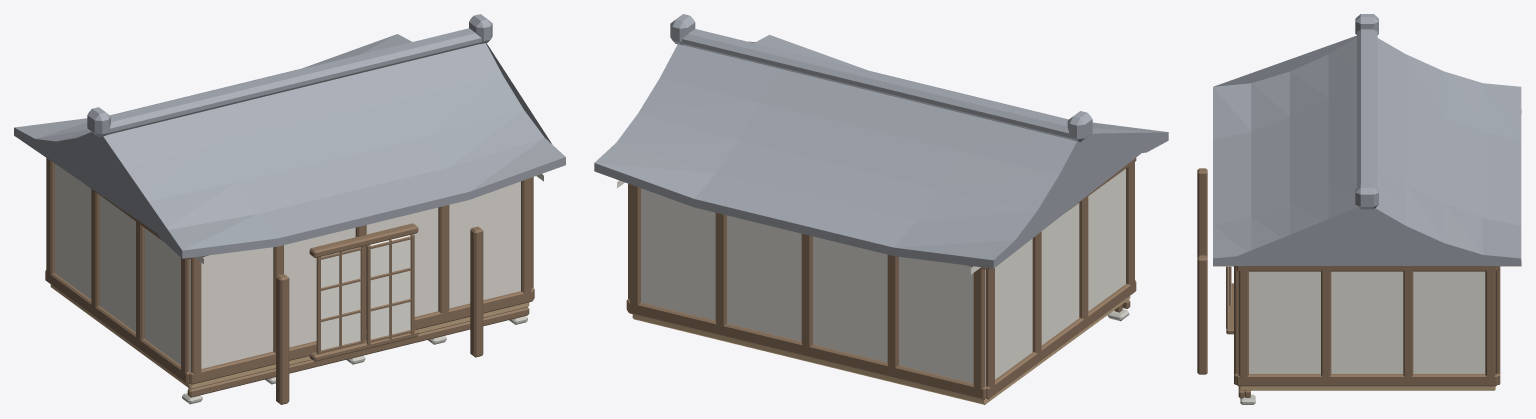
Rendered from feudal-japan-castle-town-magistrate-office-ac124a82__26269.glb.
3 renders of one model, left to right at view 1: azimuth 30°, elevation 25°; view 2: azimuth 150°, elevation 25°; view 3: azimuth 270°, elevation 25°, orthographic. The views are drawn at different scales.
Visible parts, largest first — view 1: magistrate-office; view 2: magistrate-office; view 3: magistrate-office.
Boxes of the visible parts, left/top/right/bottom form: magistrate-office: left=14, top=14, right=565, bottom=404; magistrate-office: left=594, top=14, right=1168, bottom=404; magistrate-office: left=1197, top=14, right=1521, bottom=404.
Bounding box in the file's own units: 8.2 × 4.91 × 6.3.
